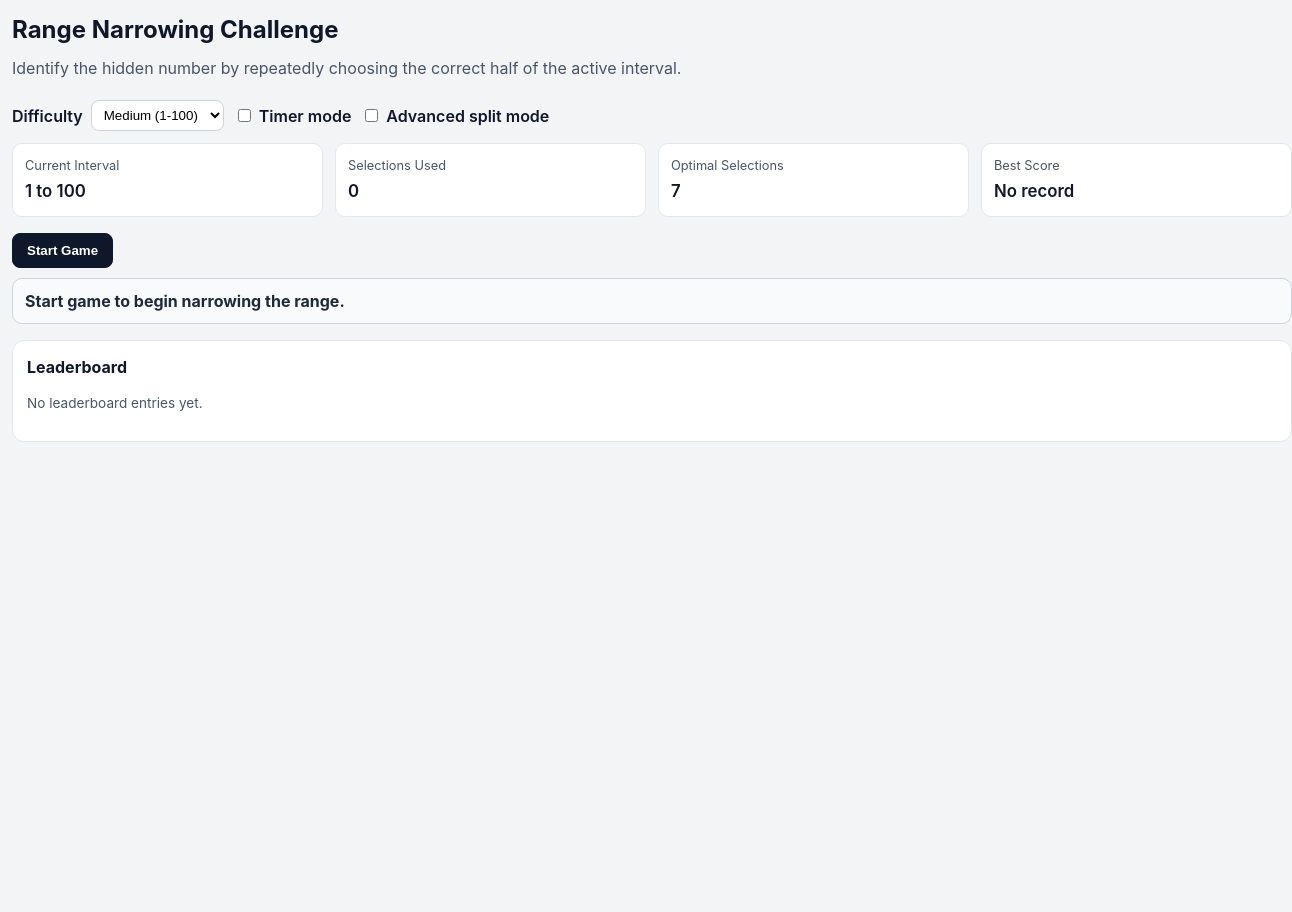
Test: RangeNarrowingPage › transitions to won state on correct resolution
Click the button "Start Game".
click(63, 251)  # box [12,233,113,268]
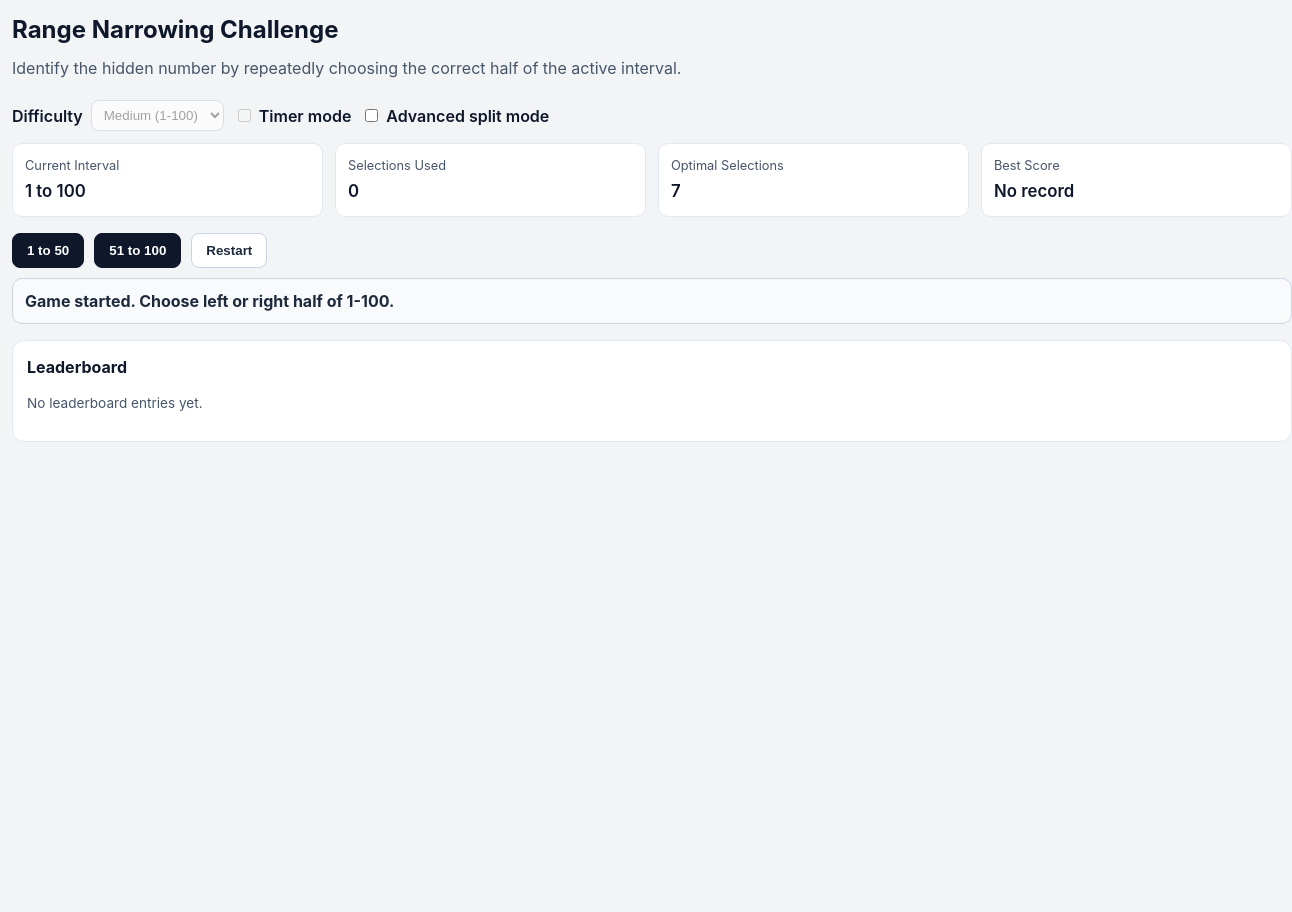
Click the button "1 to 50".
click(48, 251)  # box [12,233,84,268]
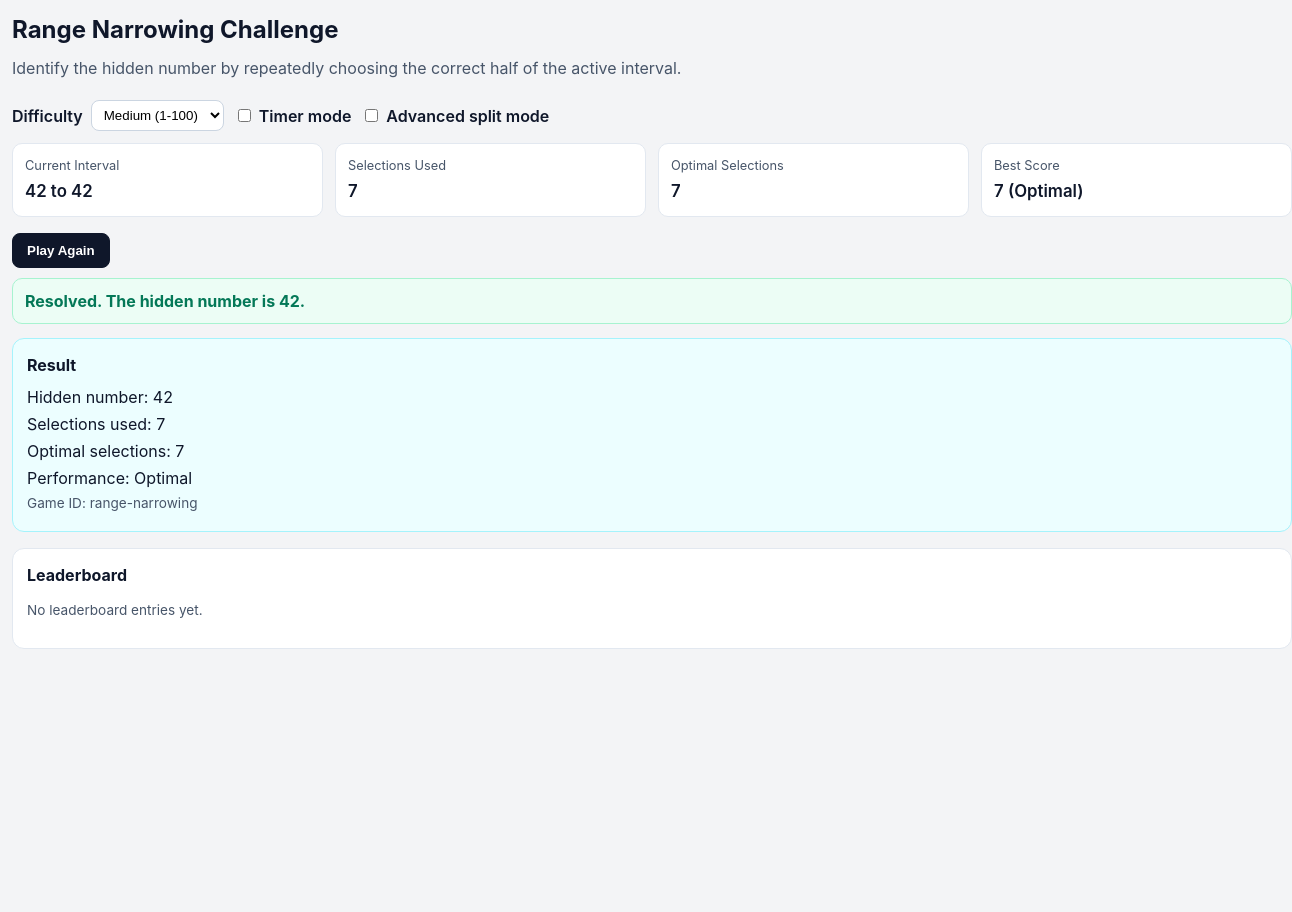
Now the text "Resolved. The hidden number is 42." is shown, box [12,278,1291,324]
Now the text "Hidden number: 42" is shown, box [27,387,173,407]
Now the button "Play Again" is shown, box [12,233,110,268]
